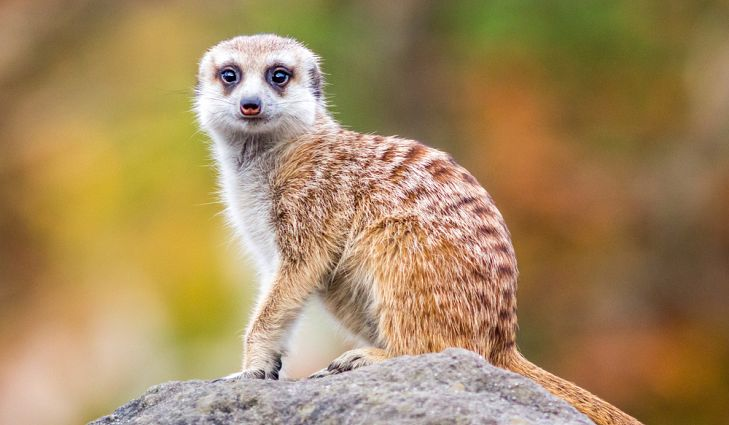meerkat: (176, 21, 567, 411)
